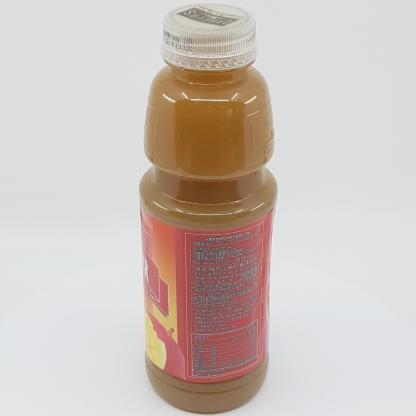-----449ML: (139, 3, 278, 413)
